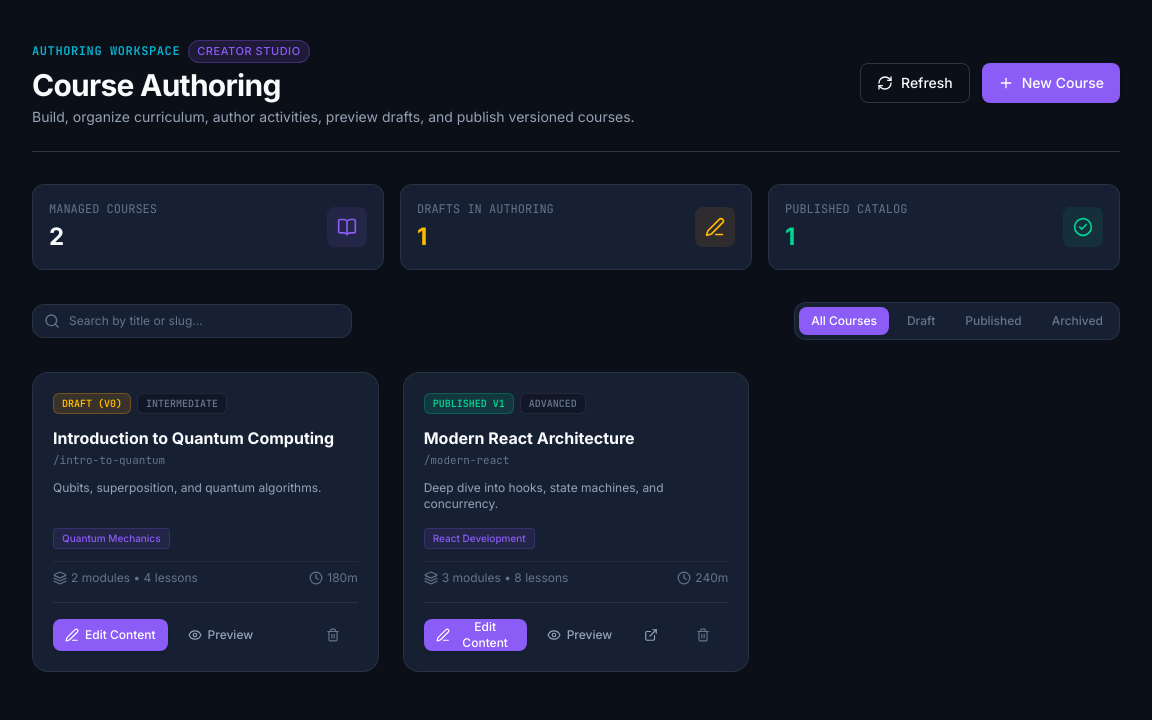
Test: Phase 7 Creator Studio & Course Authoring › Creator Studio Filtering › filters courses by status (Draft vs Published)
Expected: the heading "Introduction to Quantum Computing" is shown, [53, 426, 358, 450]
Click the button "Draft". click: (921, 320)
box: [895, 306, 947, 334]
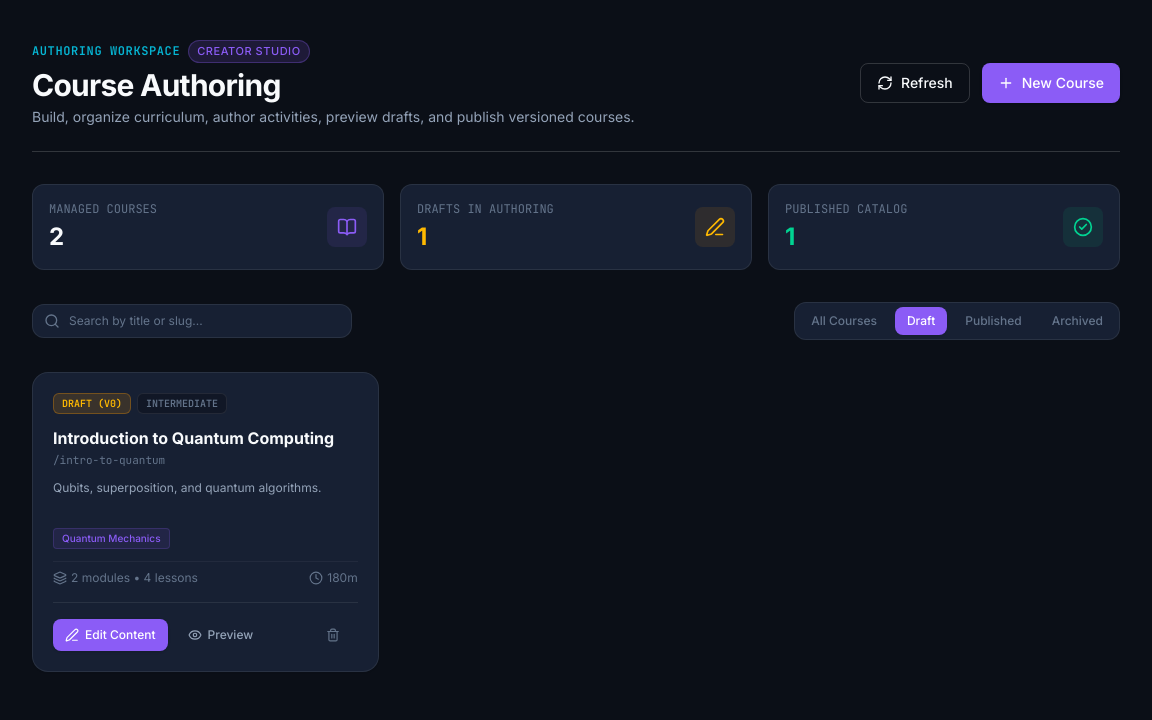
Expected: the heading "Introduction to Quantum Computing" is shown, [53, 426, 358, 450]
Now the heading "Modern React Architecture" is gone
